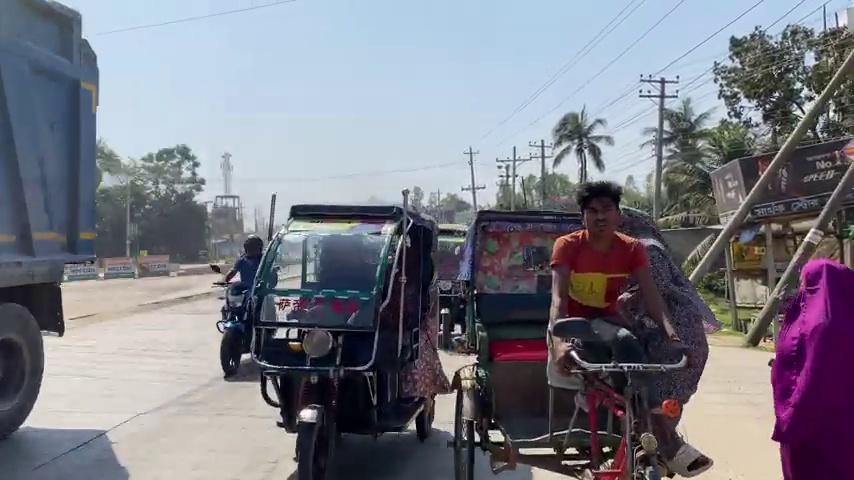Curb: (208, 263, 255, 377)
Fence: (545, 179, 710, 478)
Garbage: (686, 48, 853, 286), (744, 162, 853, 346)
Railroad-crossing: (640, 96, 719, 219), (550, 103, 614, 183)
Rickshaw: (245, 190, 448, 477), (0, 0, 100, 439)
